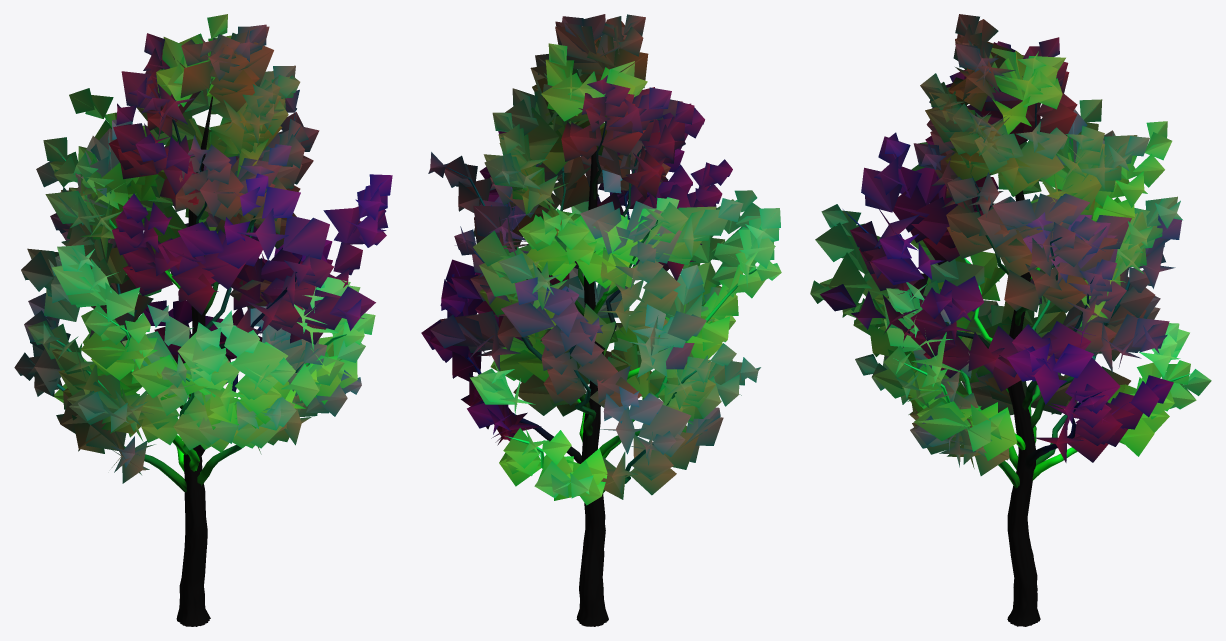
File: SM_FLTree_03.FBX
3 renders of one model, left to right at view 1: azimuth 30°, elevation 25°; view 2: azimuth 150°, elevation 25°; view 3: azimuth 270°, elevation 25°, orthographic. The views are drawn at different scales.
Parts seen in each view (by area): view 1: SM_FLTree_03_LOD0; view 2: SM_FLTree_03_LOD0; view 3: SM_FLTree_03_LOD0.
Part boxes in pixels (x1,y1,x2,y2): SM_FLTree_03_LOD0: (14, 14, 392, 626); SM_FLTree_03_LOD0: (421, 14, 781, 626); SM_FLTree_03_LOD0: (810, 14, 1211, 626).
Size of what is drawn, in the model's own units: 503 by 913 by 558.
